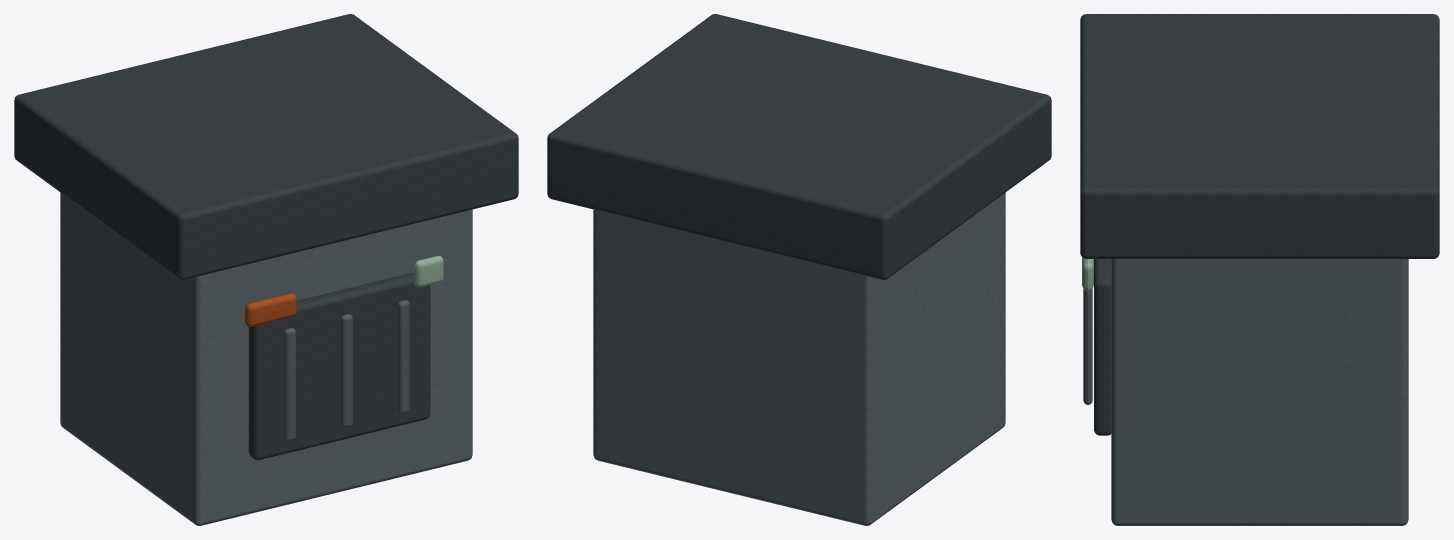
The model's file is CeilingAirQualitySampler.fbx.
The picture shows the model from 3 angles, left to right: view 1: azimuth 30°, elevation 25°; view 2: azimuth 150°, elevation 25°; view 3: azimuth 270°, elevation 25°; orthographic projection. The views are drawn at different scales.
Parts seen in each view (by area): view 1: CeilingAirQualitySampler_Mesh; view 2: CeilingAirQualitySampler_Mesh; view 3: CeilingAirQualitySampler_Mesh.
Boxes of the visible parts, box(x1,y1,x2,y2) form: CeilingAirQualitySampler_Mesh: box(14, 14, 518, 525); CeilingAirQualitySampler_Mesh: box(547, 14, 1051, 525); CeilingAirQualitySampler_Mesh: box(1080, 14, 1439, 525).
Bounding box in the file's own units: 54 × 50 × 46.
